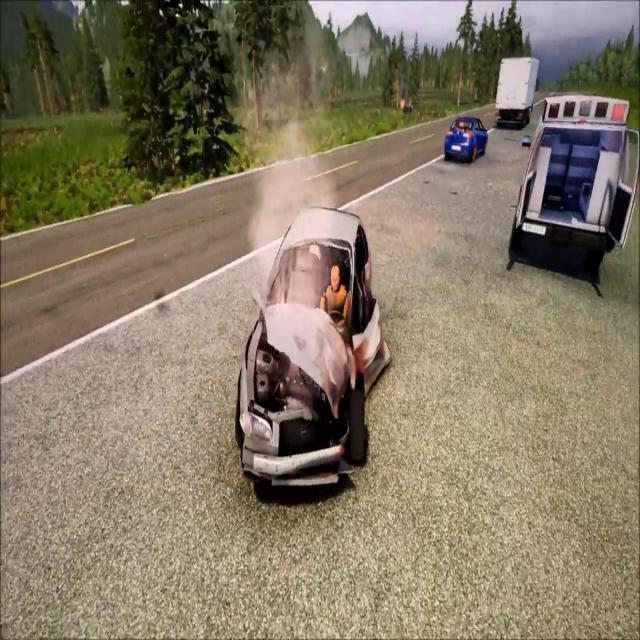accident: (231, 203, 393, 501)
